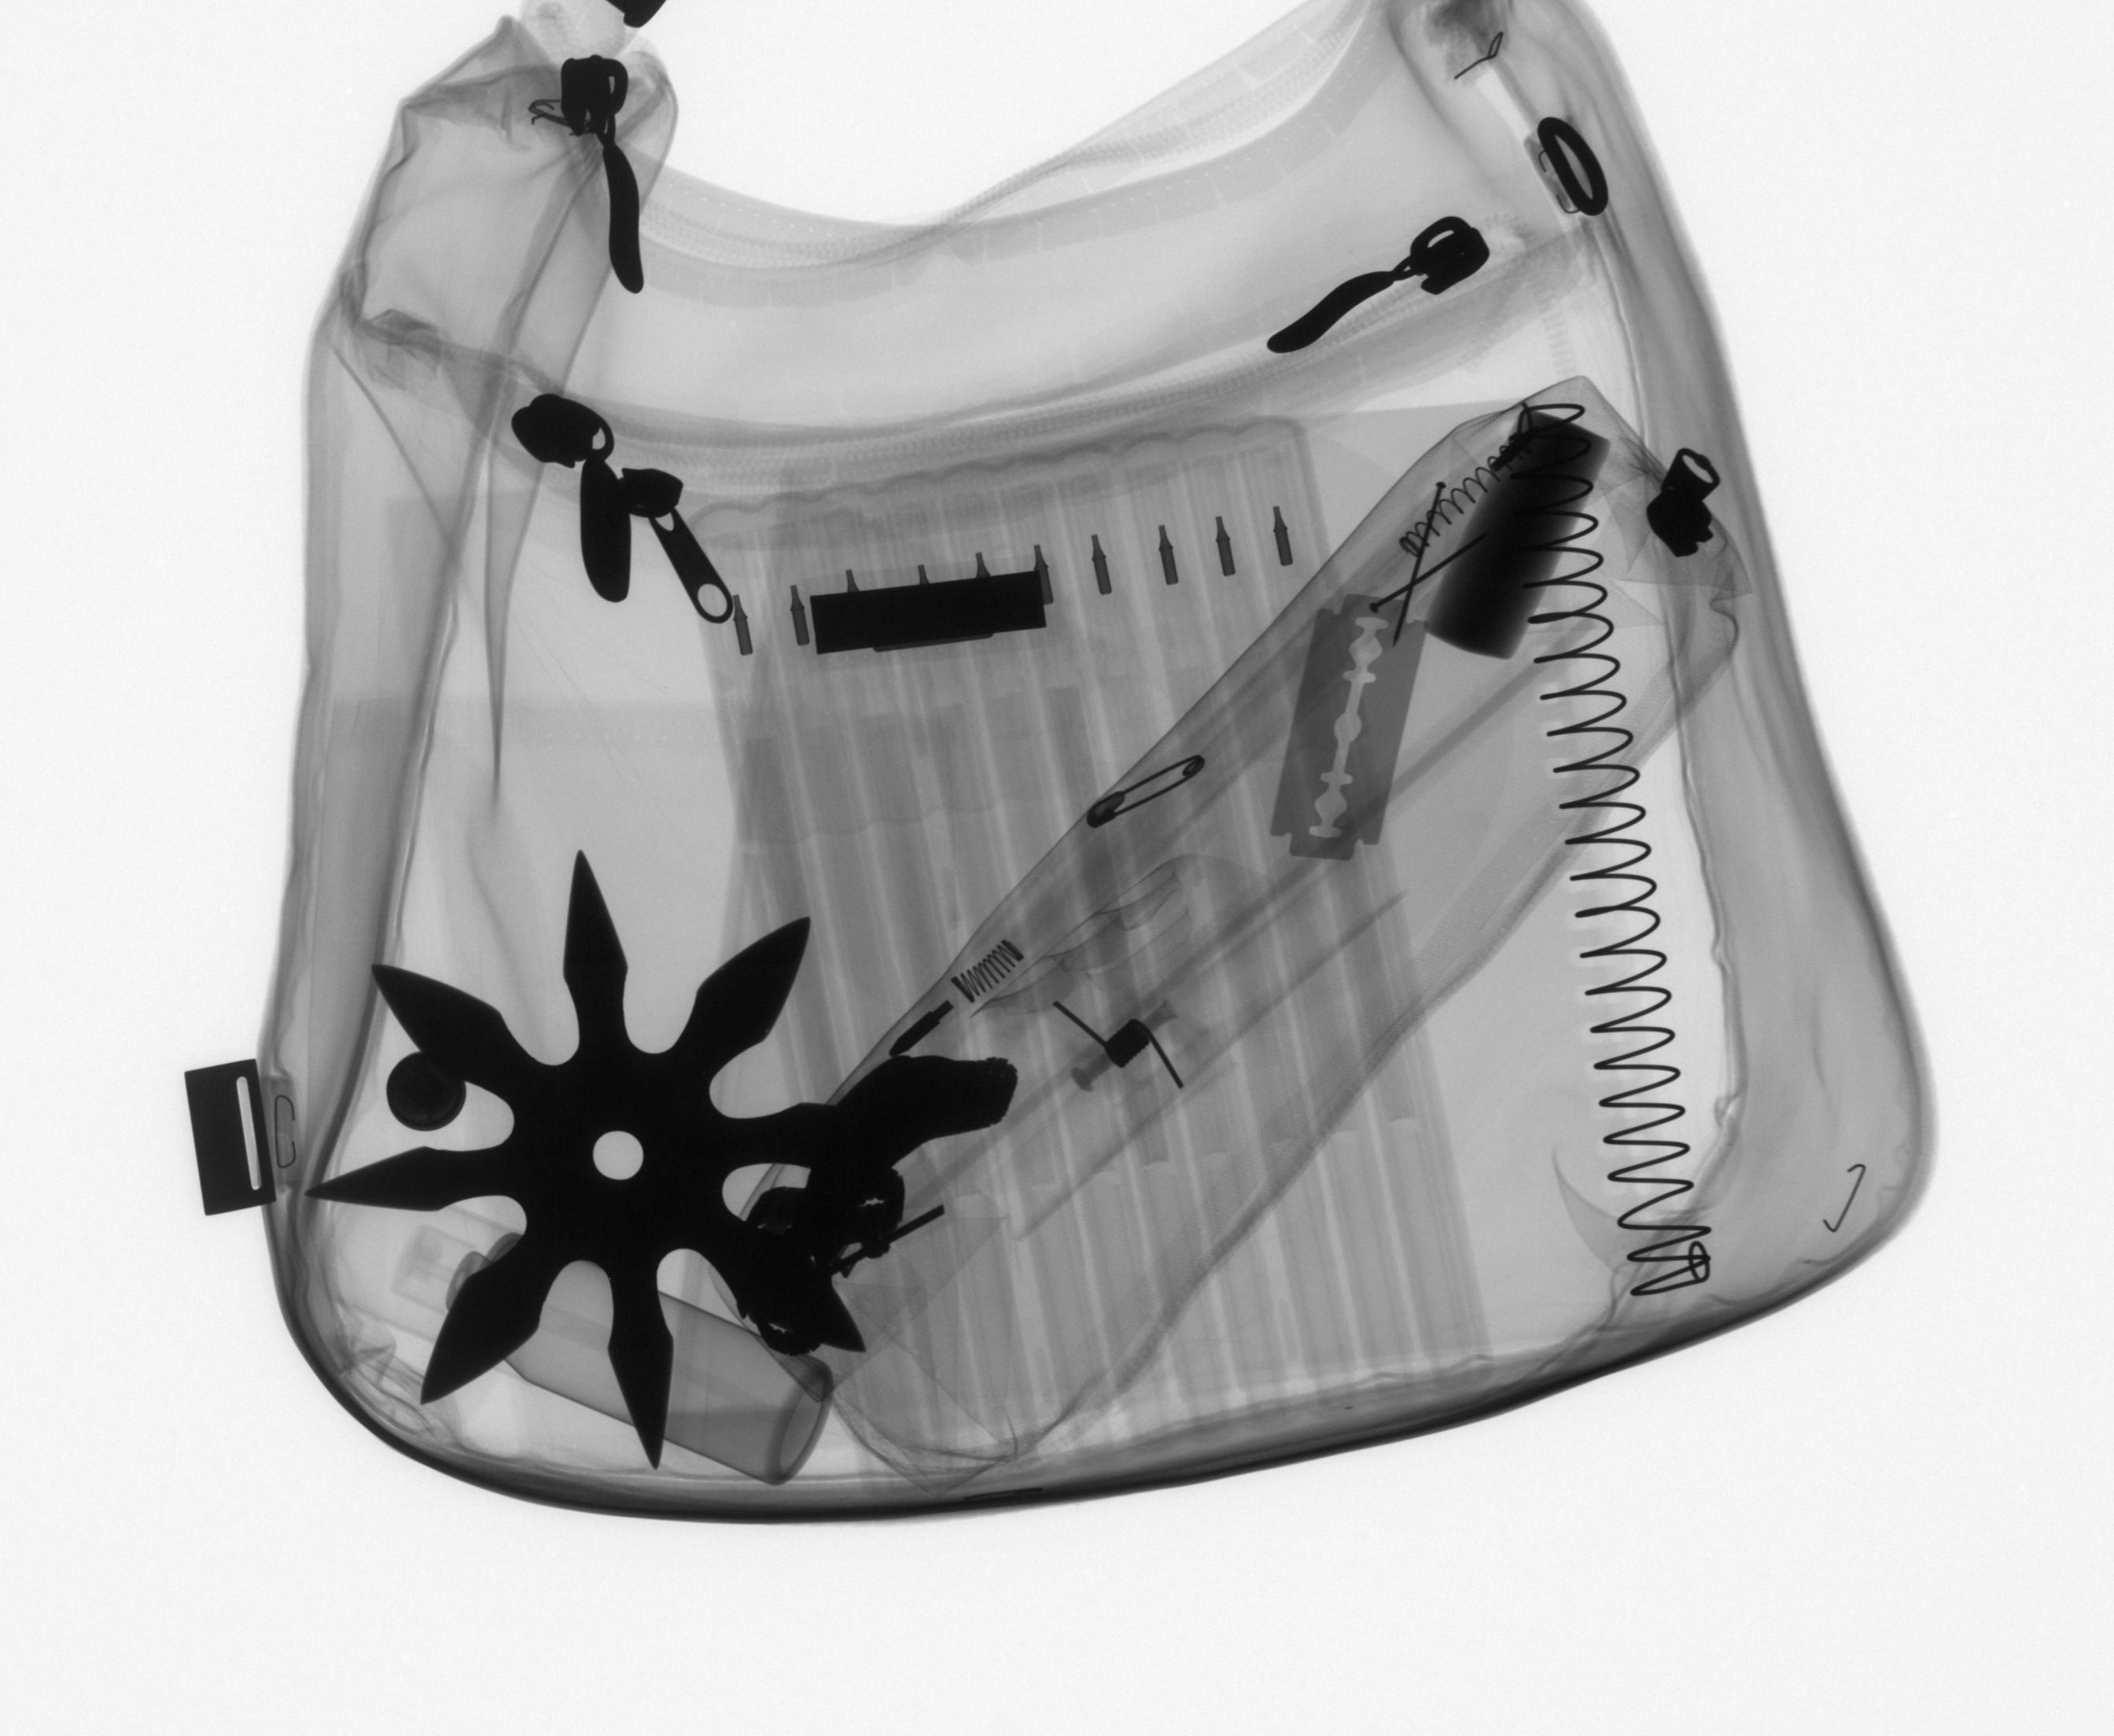RazorBlade: (1262, 588, 1436, 869)
Shuriken: (299, 841, 928, 1478)
